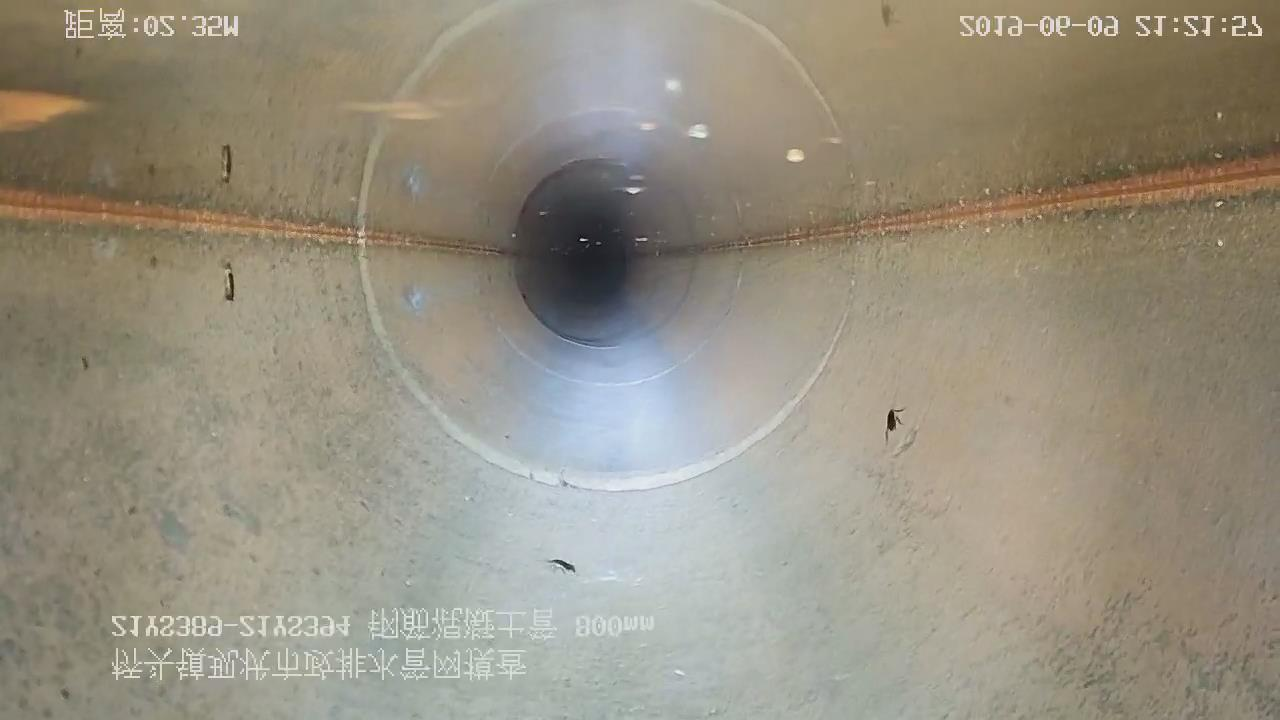CKTJ: (353, 225, 847, 492)
